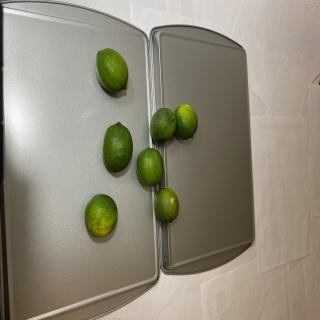Lemon: (102, 121, 133, 172), (84, 193, 118, 238), (95, 48, 128, 93), (136, 147, 164, 187), (150, 107, 177, 143), (154, 187, 179, 223), (174, 104, 198, 140)
